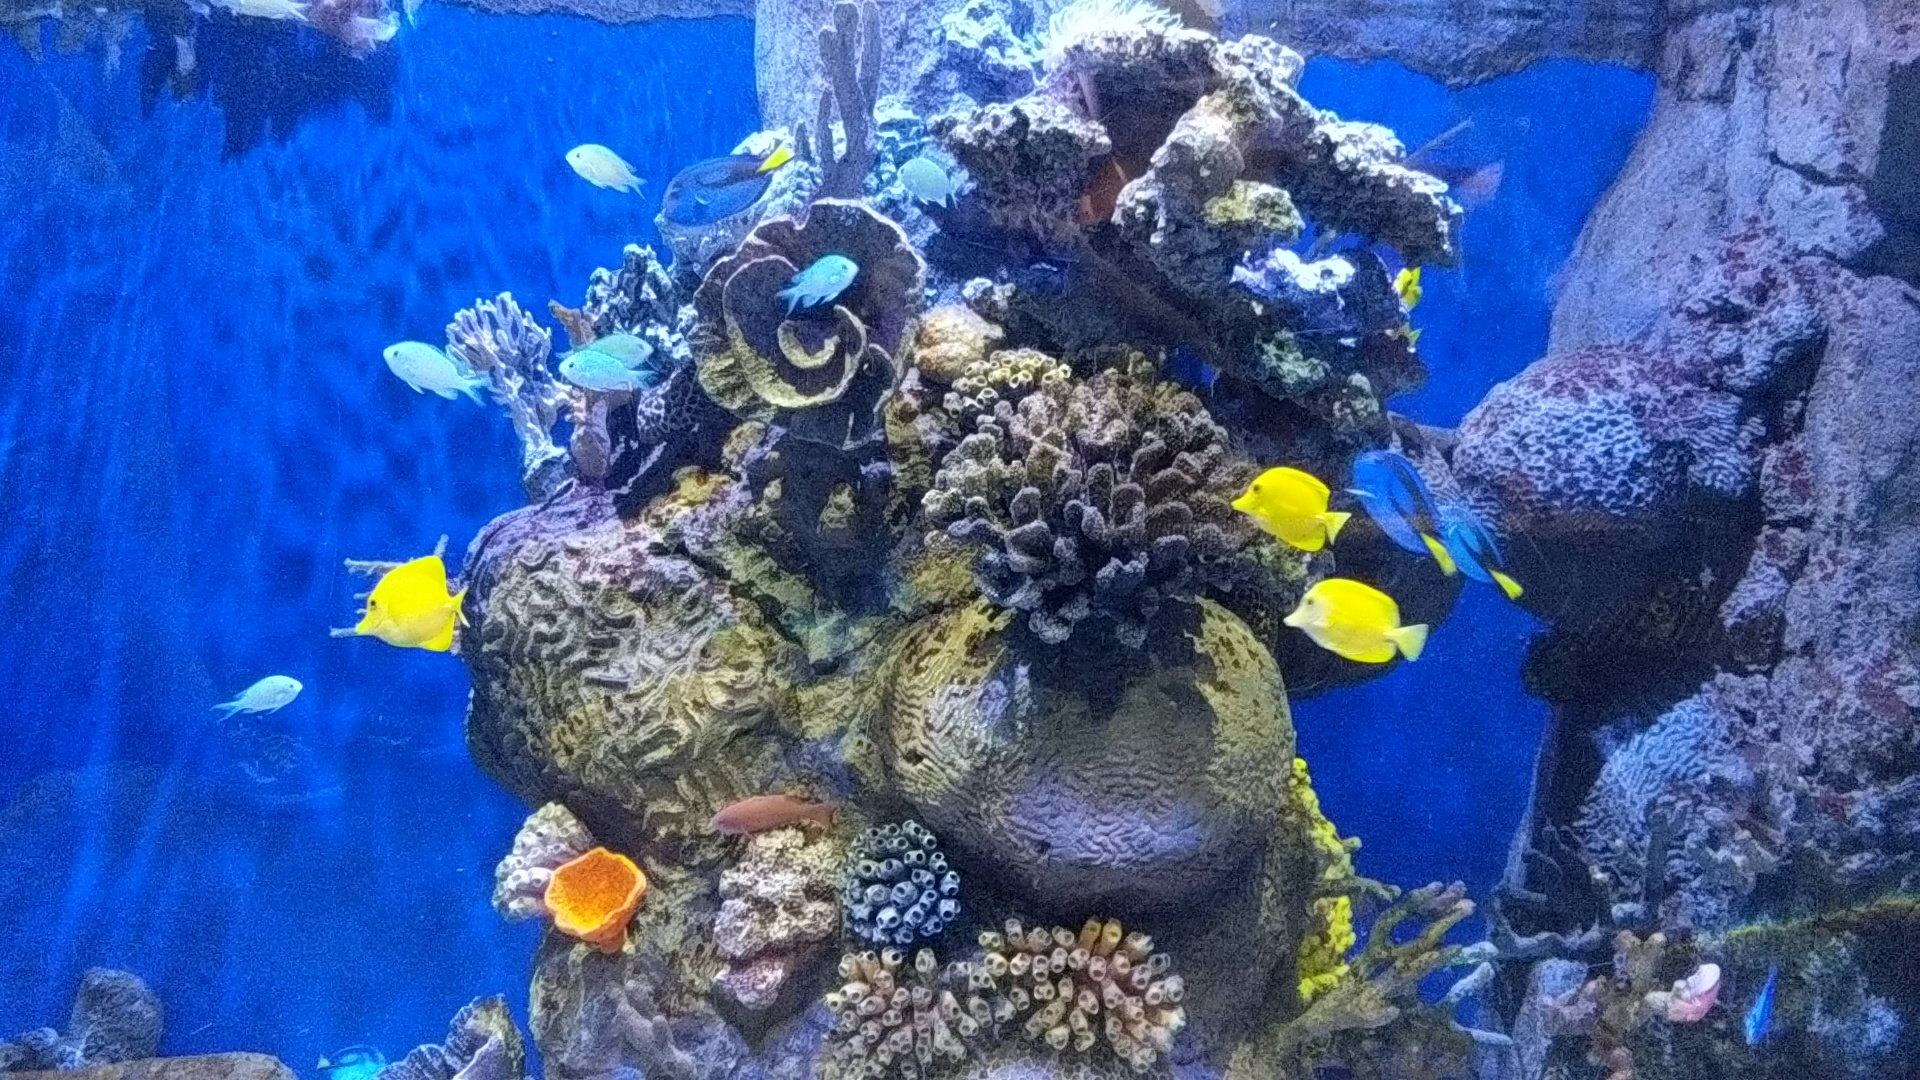blue tang surgeonfish: (1360, 440, 1455, 568), (655, 149, 793, 218), (1436, 500, 1522, 603), (1738, 965, 1789, 1043), (306, 1035, 384, 1079)
damselfish: (371, 332, 491, 404), (562, 119, 647, 203), (554, 338, 646, 404), (765, 247, 853, 310), (212, 659, 301, 723), (887, 149, 965, 218)
saddle butterfly fish: (1274, 576, 1425, 674), (345, 550, 480, 650), (1221, 460, 1352, 556)
